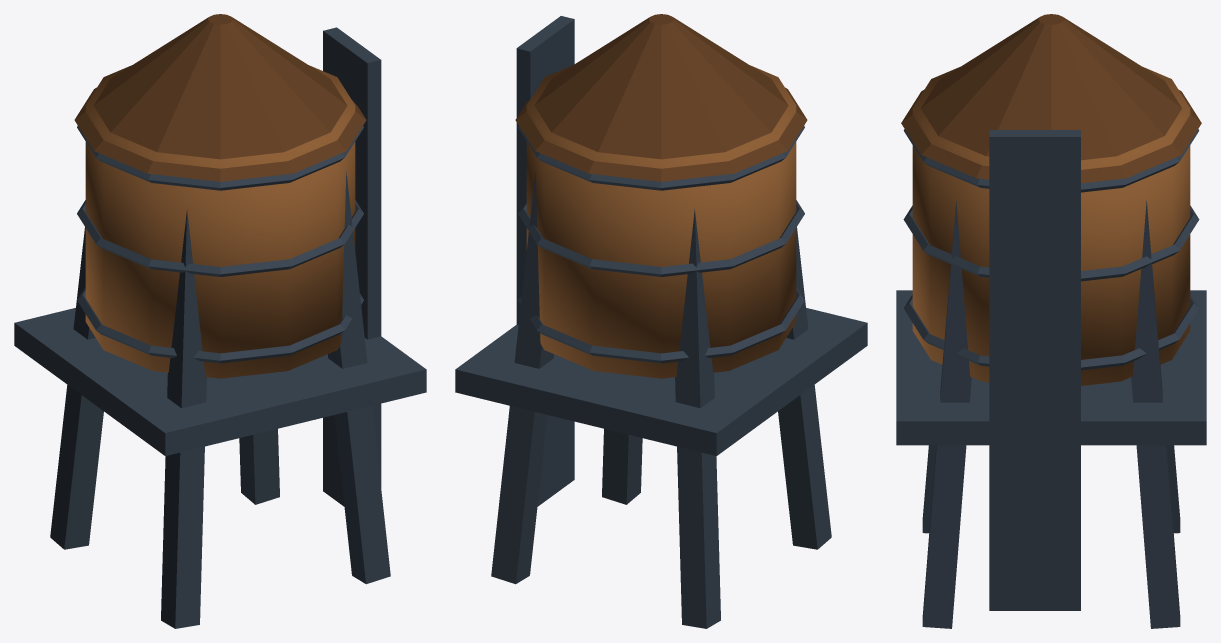
File: hd_watertower.gltf
The picture shows the model from 3 angles, left to right: view 1: azimuth 30°, elevation 25°; view 2: azimuth 150°, elevation 25°; view 3: azimuth 270°, elevation 25°; orthographic projection. The views are drawn at different scales.
Parts seen in each view (by area): view 1: tank, cap, frame, leg0, ladder, leg1, leg2, band1, band0, leg3, band2; view 2: tank, cap, frame, leg2, leg3, ladder, leg0, band1, band0, leg1, band2; view 3: ladder, tank, cap, frame, leg1, leg3, band1, band0, band2, leg0, leg2.
Part boxes in pixels (x1,y1,x2,y2): tank: (85, 65, 355, 378); cap: (74, 14, 366, 181); frame: (14, 308, 426, 456); leg0: (161, 209, 206, 628); ladder: (323, 27, 381, 506); leg1: (328, 171, 390, 584); leg2: (50, 227, 103, 549); band1: (77, 200, 363, 276); band0: (77, 287, 363, 363); leg3: (239, 429, 279, 504); band2: (77, 126, 363, 190); tank: (526, 65, 796, 378); cap: (515, 14, 807, 181); frame: (455, 308, 867, 456); leg2: (675, 209, 720, 628); leg3: (491, 171, 553, 584); ladder: (516, 16, 574, 506); leg0: (778, 227, 831, 549); band1: (518, 200, 804, 276); band0: (518, 287, 804, 363); leg1: (602, 429, 642, 504); band2: (518, 126, 804, 190); ladder: (989, 130, 1080, 610); tank: (912, 67, 1190, 385); cap: (901, 14, 1201, 183); frame: (896, 290, 1206, 445); leg1: (922, 201, 971, 628); leg3: (1131, 201, 1180, 628); band1: (903, 205, 1199, 281); band0: (903, 294, 1199, 370); band2: (903, 129, 1199, 192); leg0: (922, 445, 935, 533); leg2: (1167, 445, 1180, 533).
Size of the model in its own units: 1.9 by 3.76 by 1.9.
